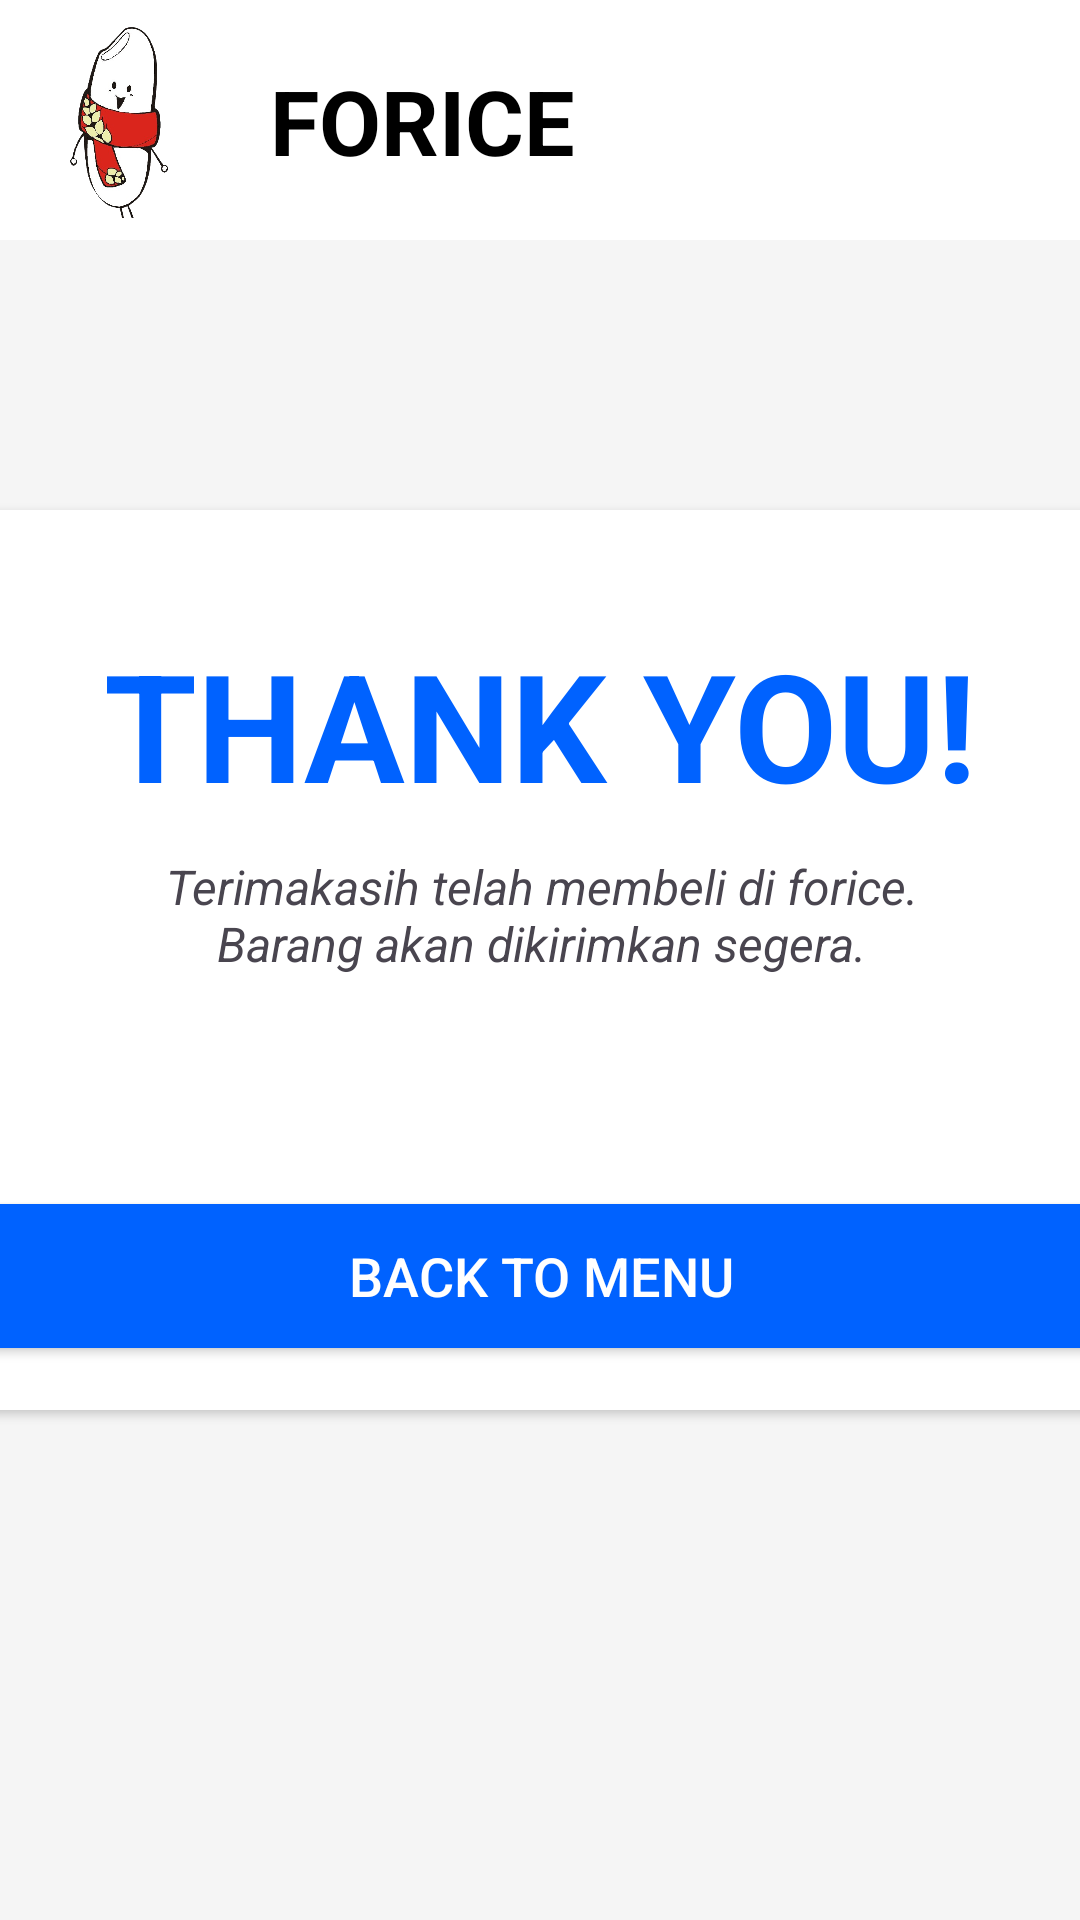

Icons on this 1080 x 1920 Android screen, each with the point to tap as (x=x, y=y):
forrice: (x=119, y=122)
